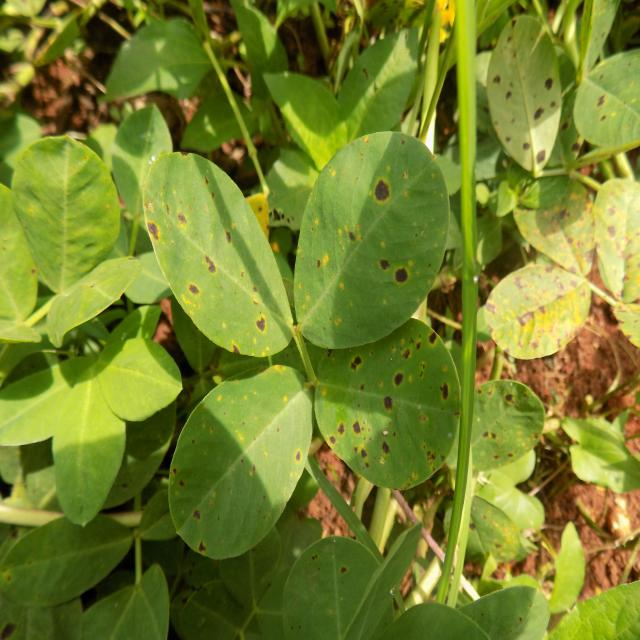Ground nut_healthy: (15, 128, 119, 300), (52, 358, 126, 538), (8, 511, 138, 609), (97, 293, 182, 433), (104, 24, 210, 106)
Ground nut_tikka leaf spot: (294, 128, 448, 343), (140, 146, 294, 359), (164, 366, 312, 562), (312, 327, 468, 489), (486, 17, 563, 174), (488, 257, 588, 363), (585, 173, 640, 308), (476, 375, 547, 479), (474, 366, 548, 459)
